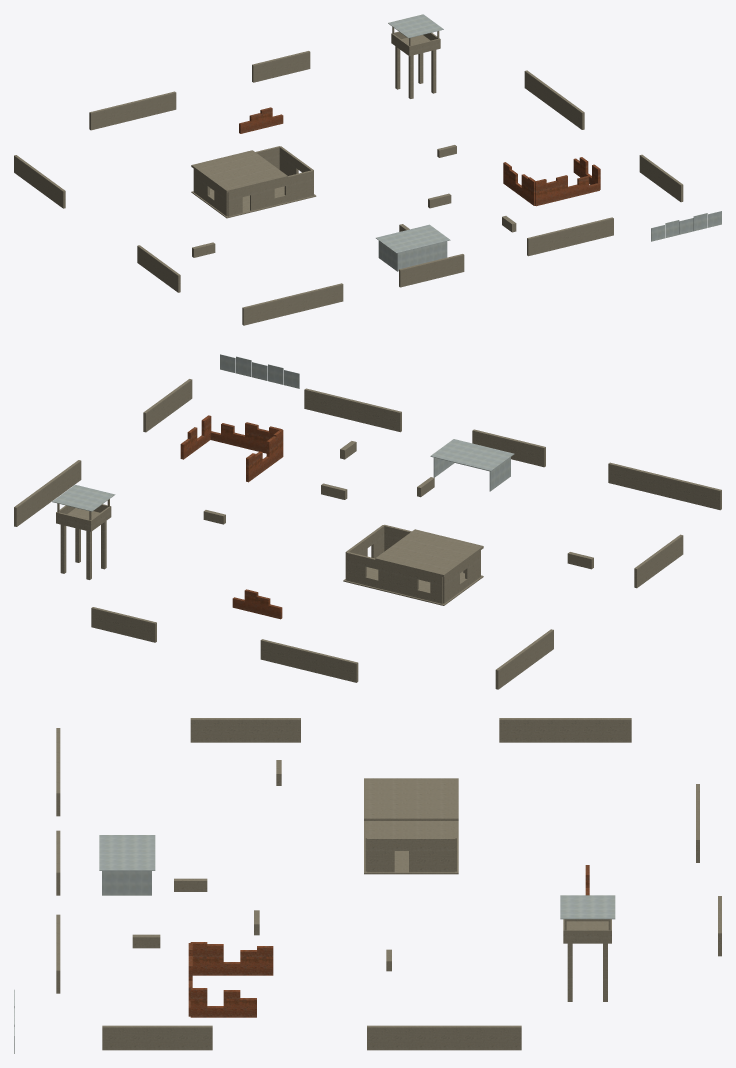
File: buildings.glb
3 renders of one model, top to bottom at view 1: azimuth 30°, elevation 25°; view 2: azimuth 150°, elevation 25°; view 3: azimuth 270°, elevation 25°, orthographic. The views are drawn at different scales.
Visible parts, largest first — view 1: bld_concrete, bld_metal, bld_brick; view 2: bld_concrete, bld_metal, bld_brick; view 3: bld_concrete, bld_metal, bld_brick.
Boxes of the visible parts, bbox=[...] form: bld_concrete: bbox=[14, 27, 683, 325]; bld_metal: bbox=[376, 14, 721, 271]; bld_brick: bbox=[239, 107, 600, 206]; bld_concrete: bbox=[14, 379, 721, 689]; bld_metal: bbox=[52, 354, 514, 511]; bld_brick: bbox=[180, 415, 283, 619]; bld_concrete: bbox=[56, 718, 721, 1050]; bld_metal: bbox=[14, 835, 615, 1053]; bld_brick: bbox=[188, 865, 589, 1017].
Size of the model in its own units: 67.15 by 8.71 by 64.2.
3 materials, 3 textured.
